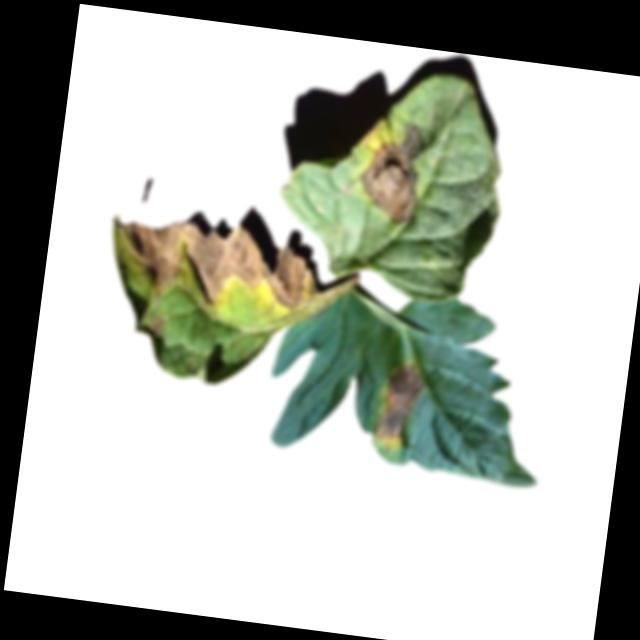Early_blight: (103, 211, 325, 324), (351, 116, 436, 229), (368, 359, 427, 452), (144, 314, 168, 340)
